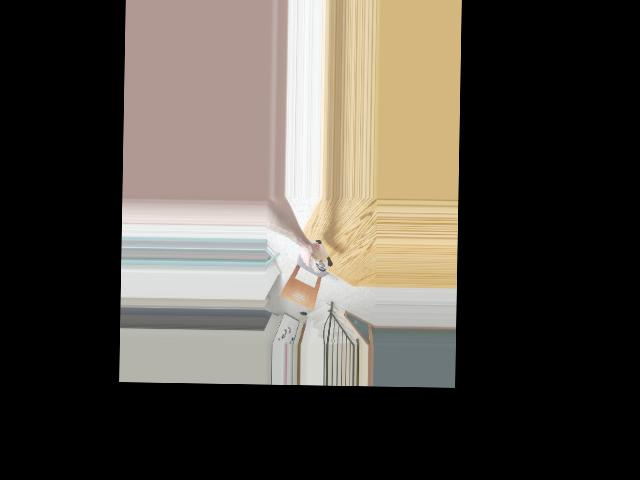cheese: (299, 236, 332, 273)
